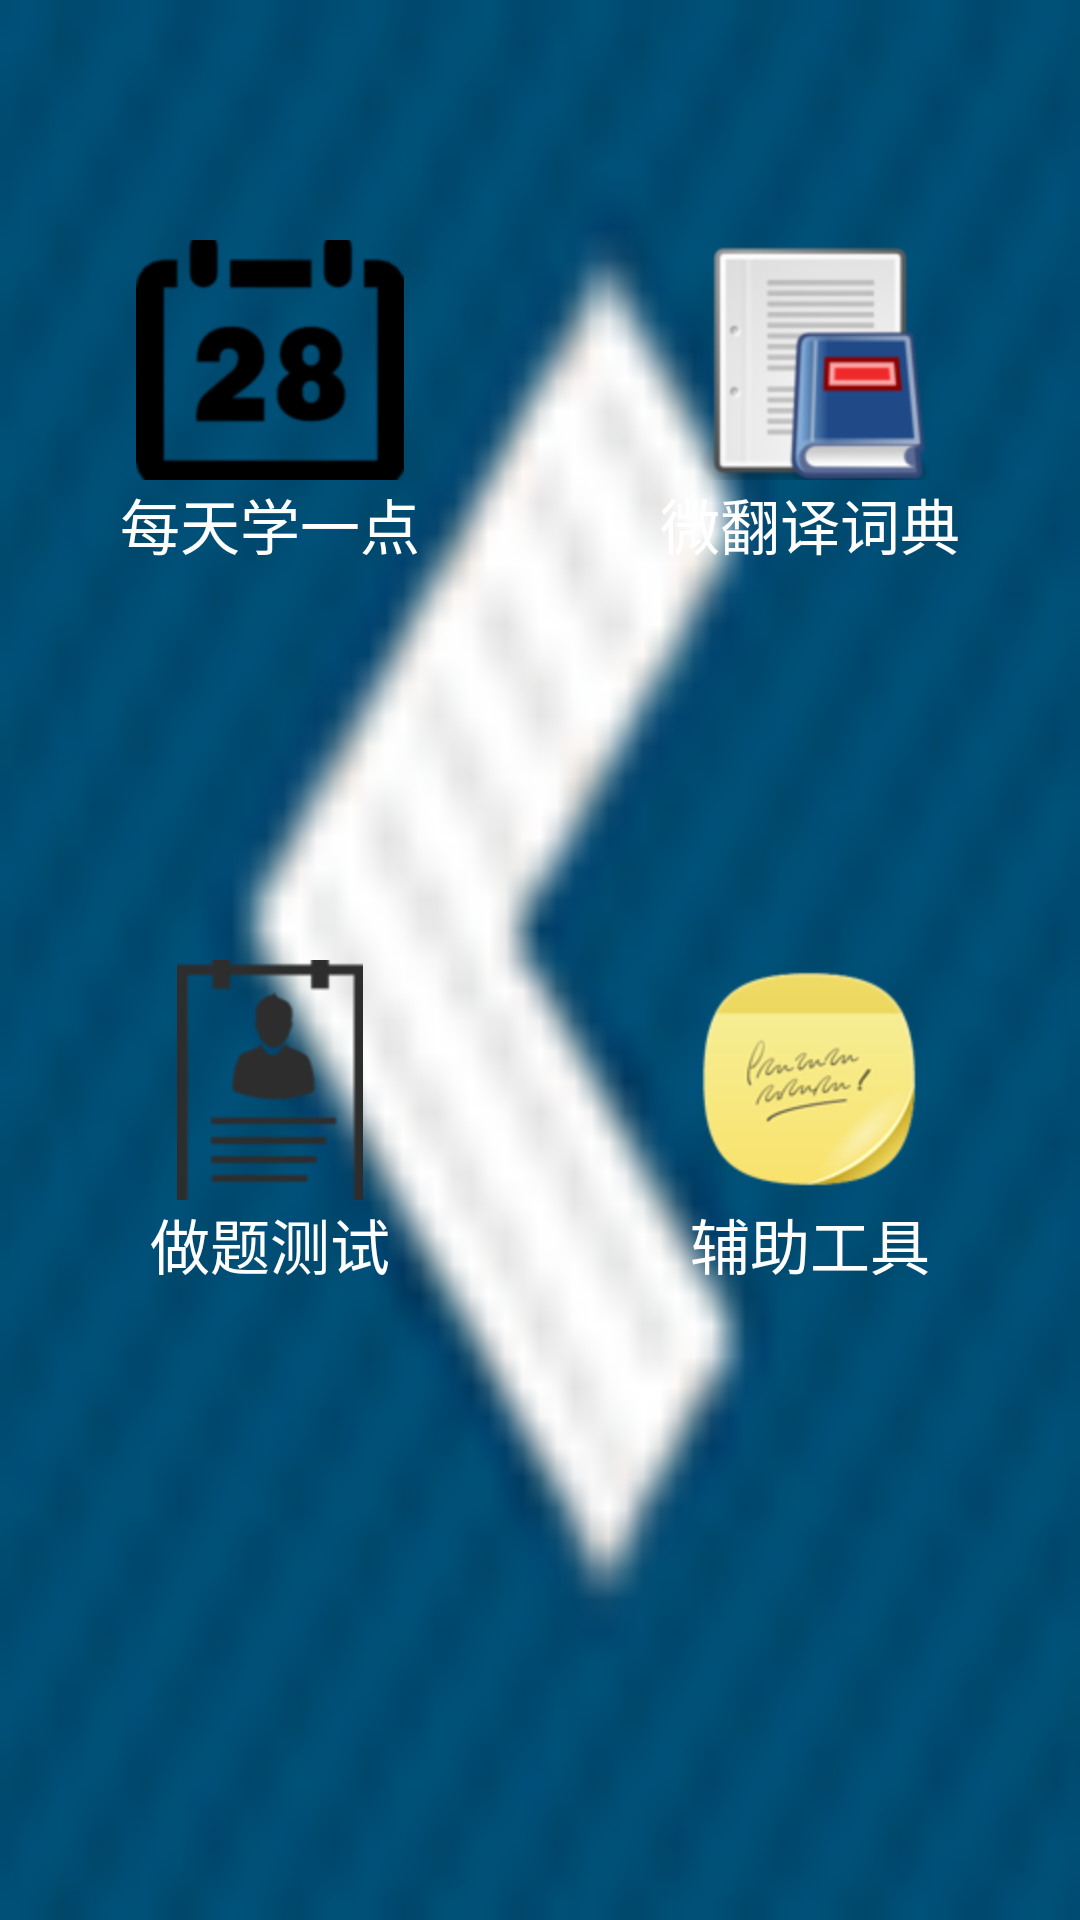

Screen size 1080px×1920px. Icon name, then its box in pixels as {"left": x1, "top": y1, "right": x2, "bottom": y2}:
notebook: {"left": 702, "top": 972, "right": 916, "bottom": 1186}
